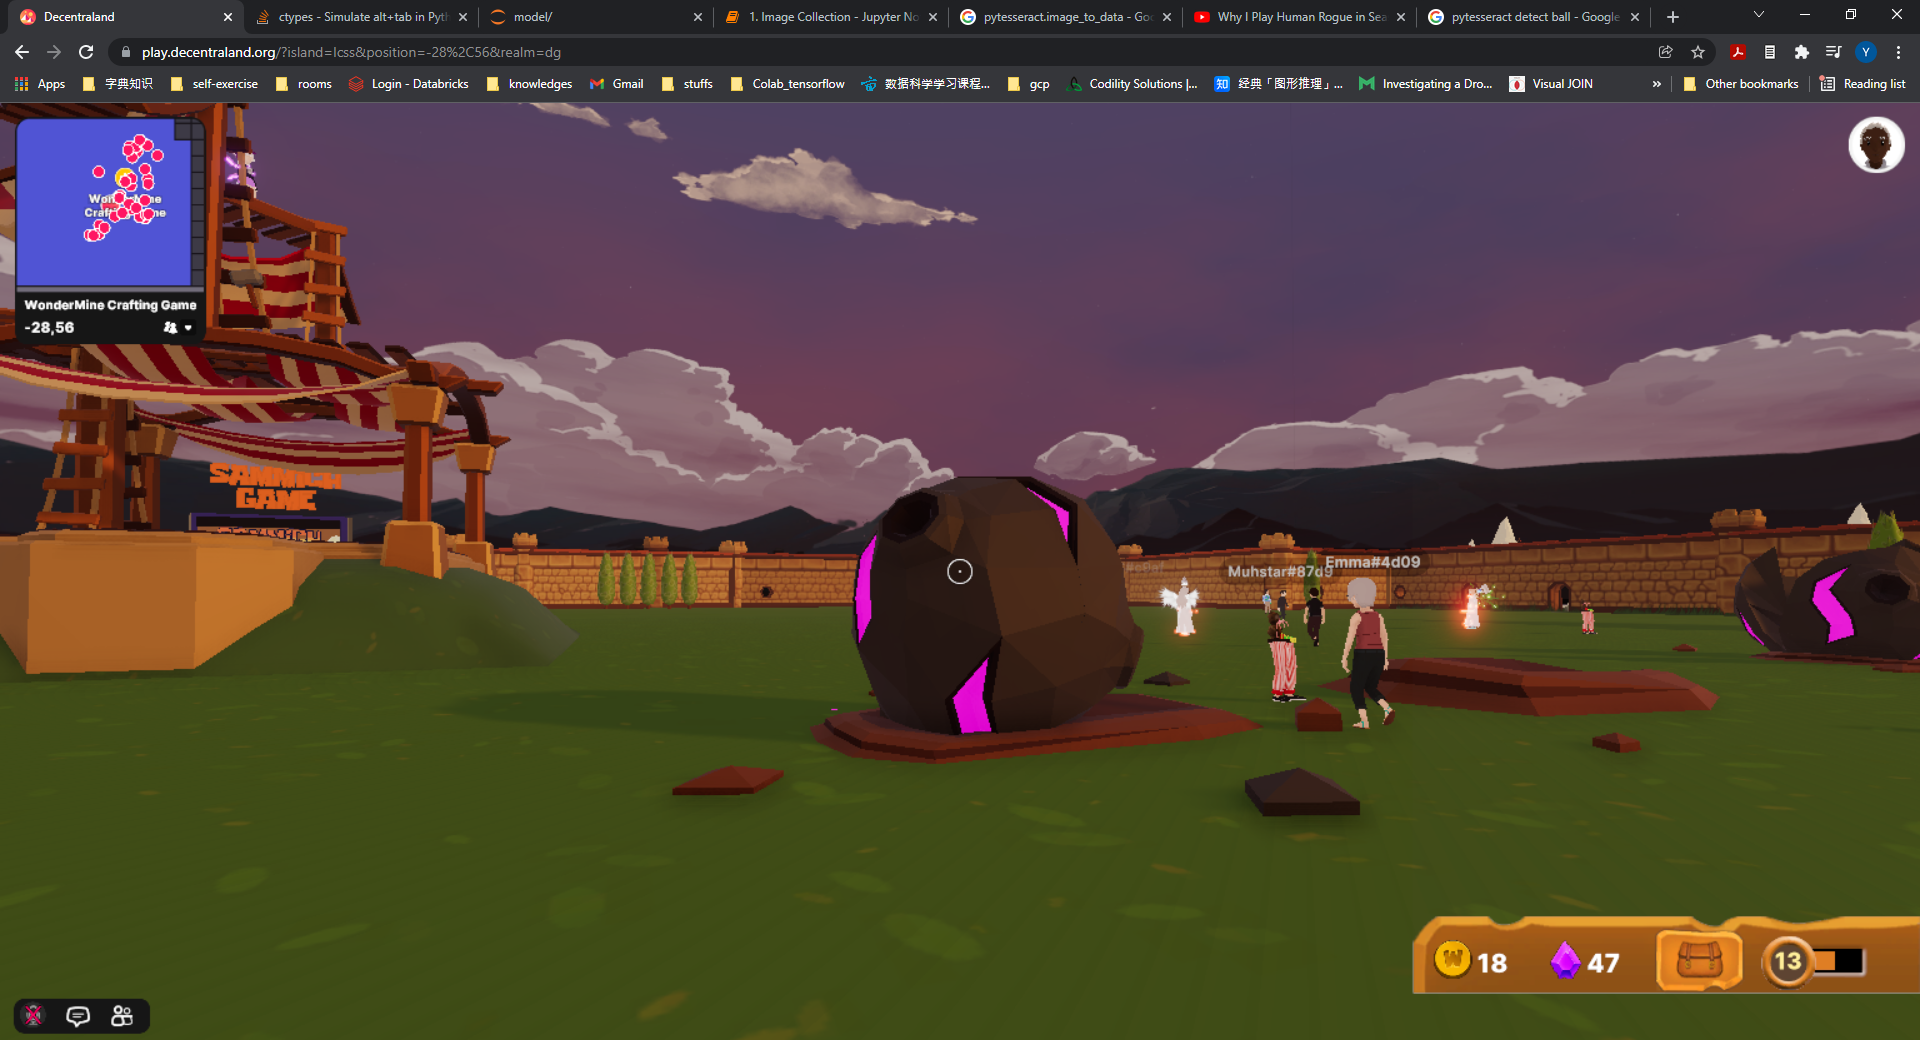black_ball: (826, 453, 1167, 745)
